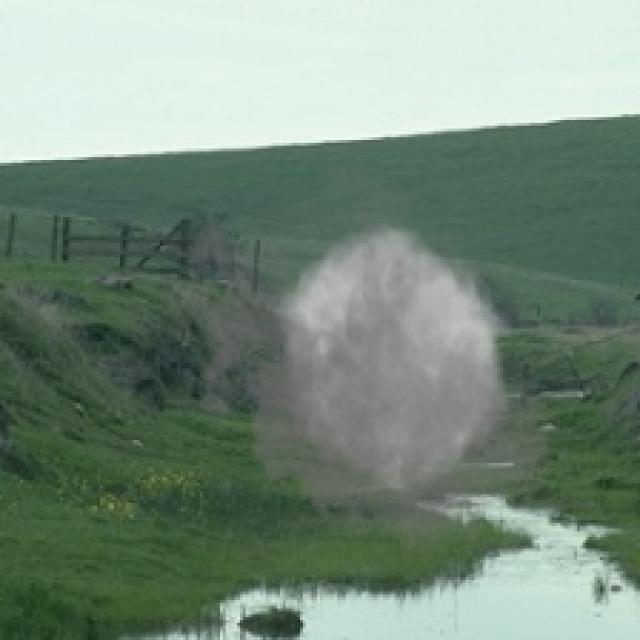smoke: (174, 152, 566, 568)
